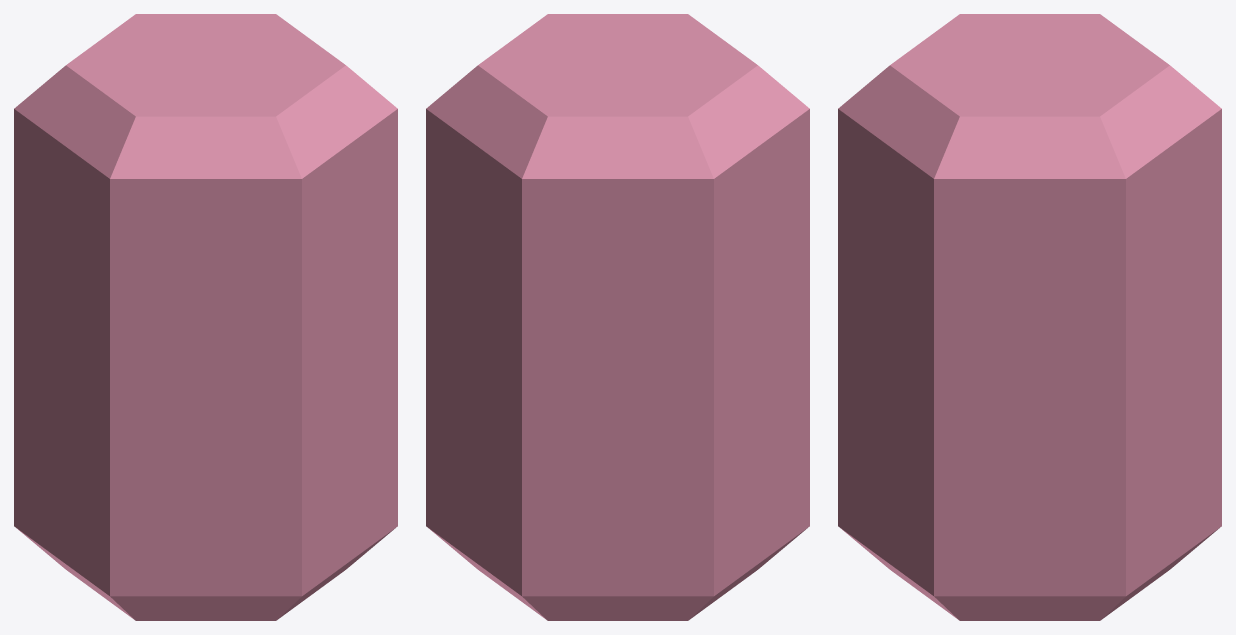
File: KSI_barrel.glb
The picture shows the model from 3 angles, left to right: view 1: azimuth 30°, elevation 25°; view 2: azimuth 150°, elevation 25°; view 3: azimuth 270°, elevation 25°; orthographic projection.
Visible parts, largest first — view 1: tmpParent; view 2: tmpParent; view 3: tmpParent.
Boxes of the visible parts, <box> form: tmpParent: <box>14,14,397,620</box>; tmpParent: <box>426,14,809,620</box>; tmpParent: <box>838,14,1221,620</box>.
Size of the model in its own units: 0.3464 by 0.58 by 0.4.
